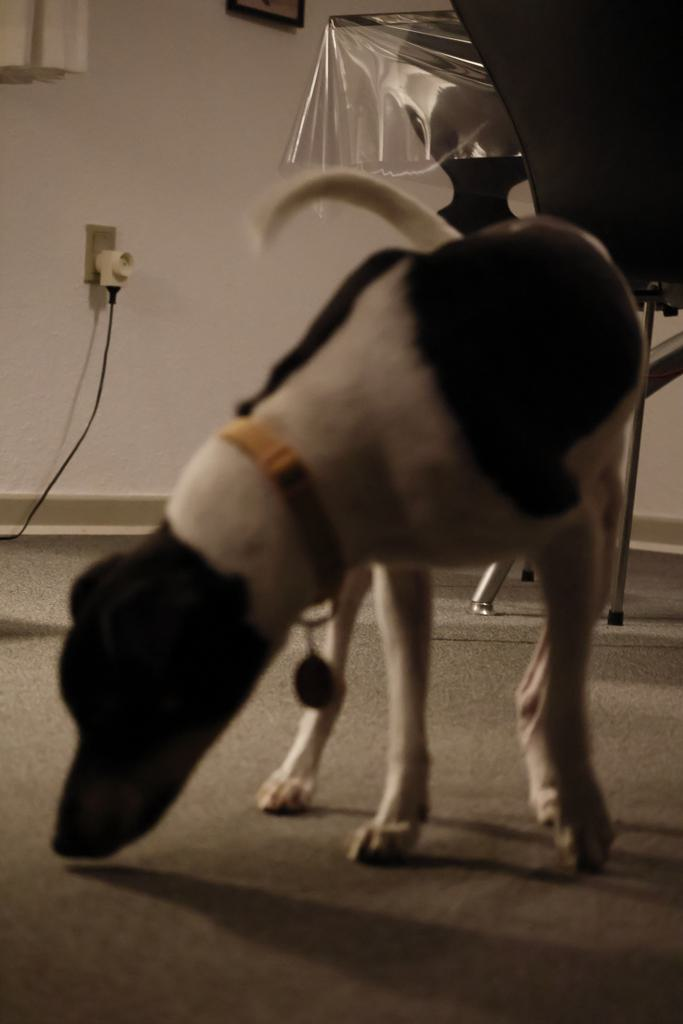Dog: (30, 151, 662, 891)
